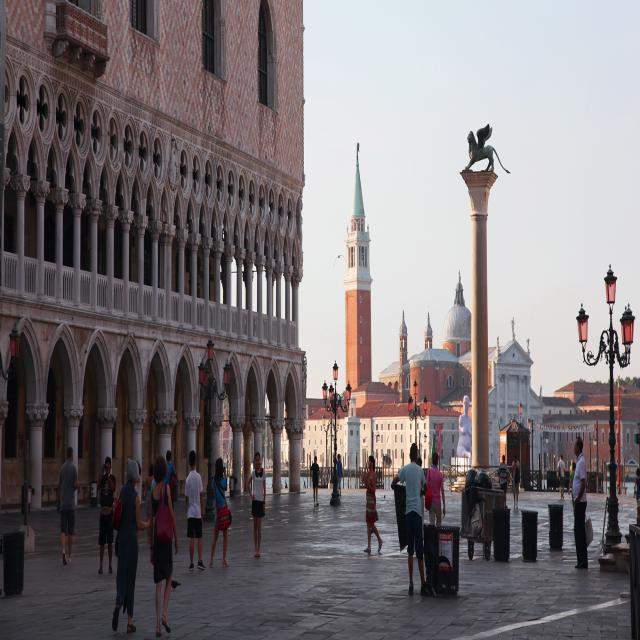body: (110, 458, 155, 636), (147, 452, 180, 638), (390, 442, 429, 598), (568, 435, 594, 571), (55, 444, 79, 567), (184, 449, 207, 574), (95, 453, 117, 578), (209, 455, 232, 571), (123, 451, 146, 563), (246, 451, 267, 561), (360, 454, 383, 554), (425, 451, 446, 527), (162, 450, 176, 512), (145, 462, 154, 544), (497, 453, 509, 508), (568, 462, 577, 526), (310, 455, 320, 507), (511, 453, 520, 510), (556, 453, 566, 500), (633, 467, 640, 507), (337, 453, 342, 494), (570, 458, 574, 488), (417, 456, 422, 467)
